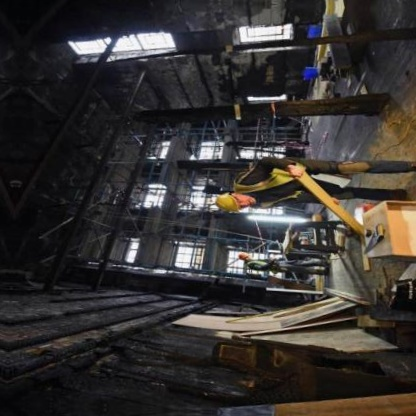vest: (230, 164, 320, 213), (244, 255, 281, 276)
yellow: (211, 188, 243, 217)
